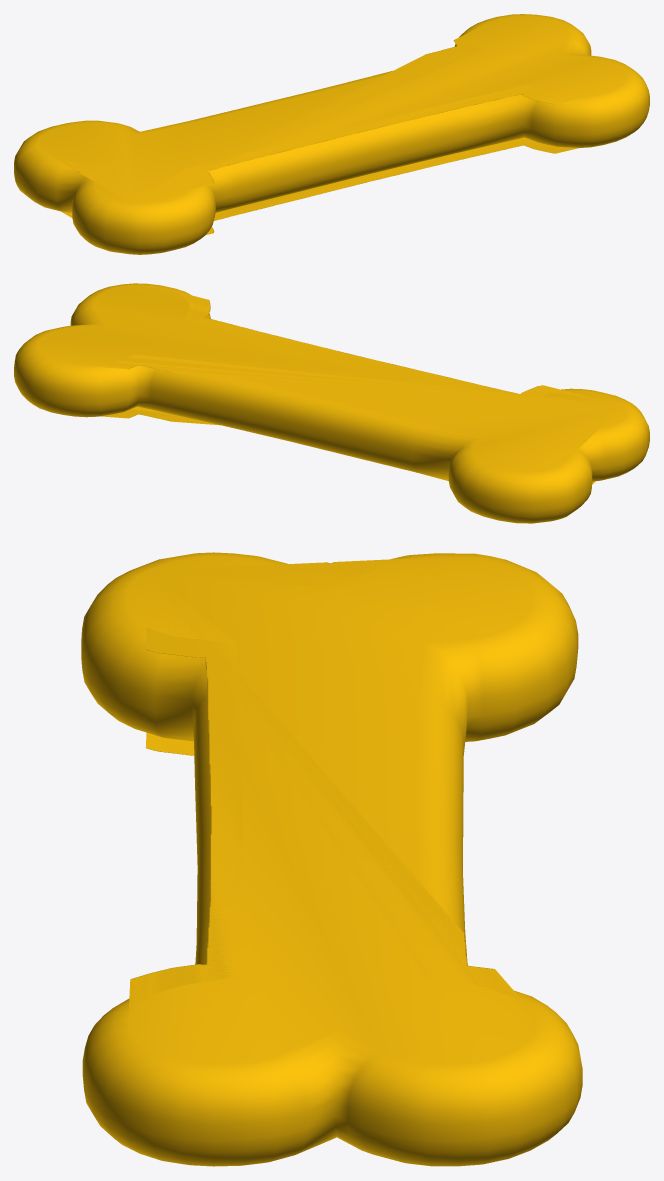
Rendered from BoneV2.fbx.
3 views of the same model, one above another, from view 1: azimuth 30°, elevation 25°; view 2: azimuth 150°, elevation 25°; view 3: azimuth 270°, elevation 25° (orthographic). The views are drawn at different scales.
Parts seen in each view (by area): view 1: Plane; view 2: Plane; view 3: Plane.
Boxes of the visible parts, bbox=[...] form: Plane: bbox=[14, 14, 649, 254]; Plane: bbox=[14, 283, 649, 523]; Plane: bbox=[81, 552, 582, 1166].
Bounding box in the file's own units: 422 × 35.48 × 164.
